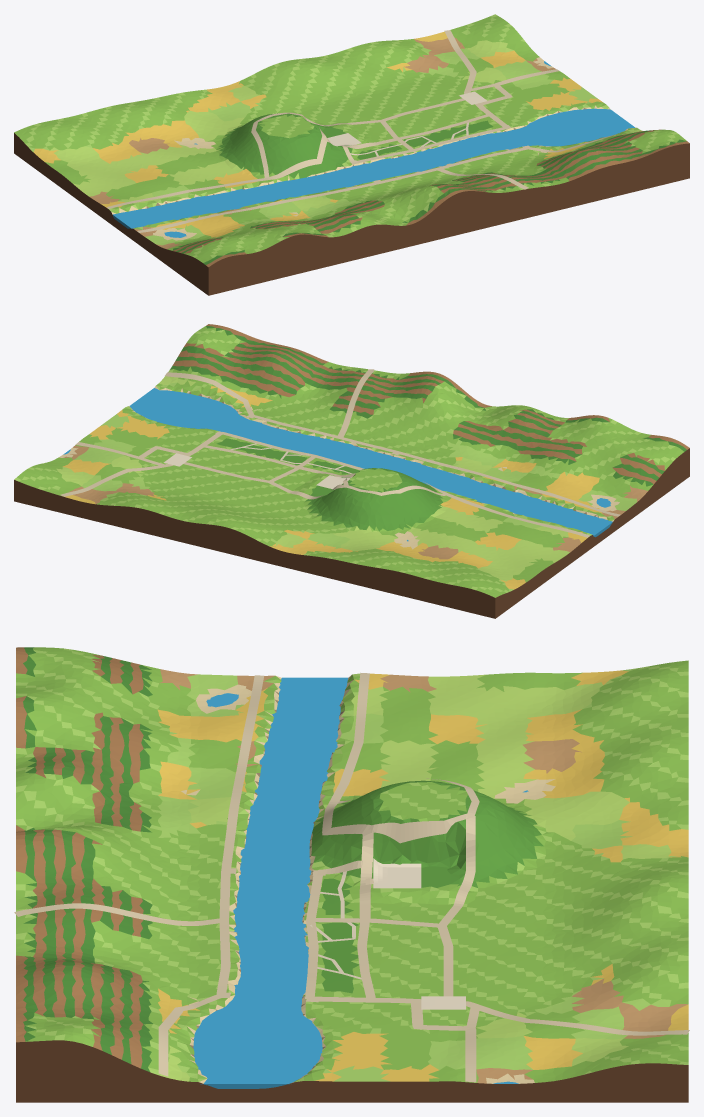
The model's file is terrain.glb.
3 renders of one model, top to bottom at view 1: azimuth 30°, elevation 25°; view 2: azimuth 150°, elevation 25°; view 3: azimuth 270°, elevation 25°, orthographic. The views are drawn at different scales.
Parts seen in each view (by area): view 1: Terrain, Water, Roads; view 2: Terrain, Water, Roads; view 3: Terrain, Water, Roads.
Part boxes in pixels (x1,y1,x2,y2): Terrain: [14, 14, 689, 295]; Water: [113, 61, 634, 237]; Roads: [107, 30, 619, 232]; Terrain: [14, 324, 689, 618]; Water: [63, 388, 612, 541]; Roads: [60, 369, 620, 537]; Terrain: [16, 647, 688, 1102]; Water: [193, 677, 528, 1088]; Roads: [14, 672, 689, 1082].
Bounding box in the file's own units: 600 × 49.95 × 422.
